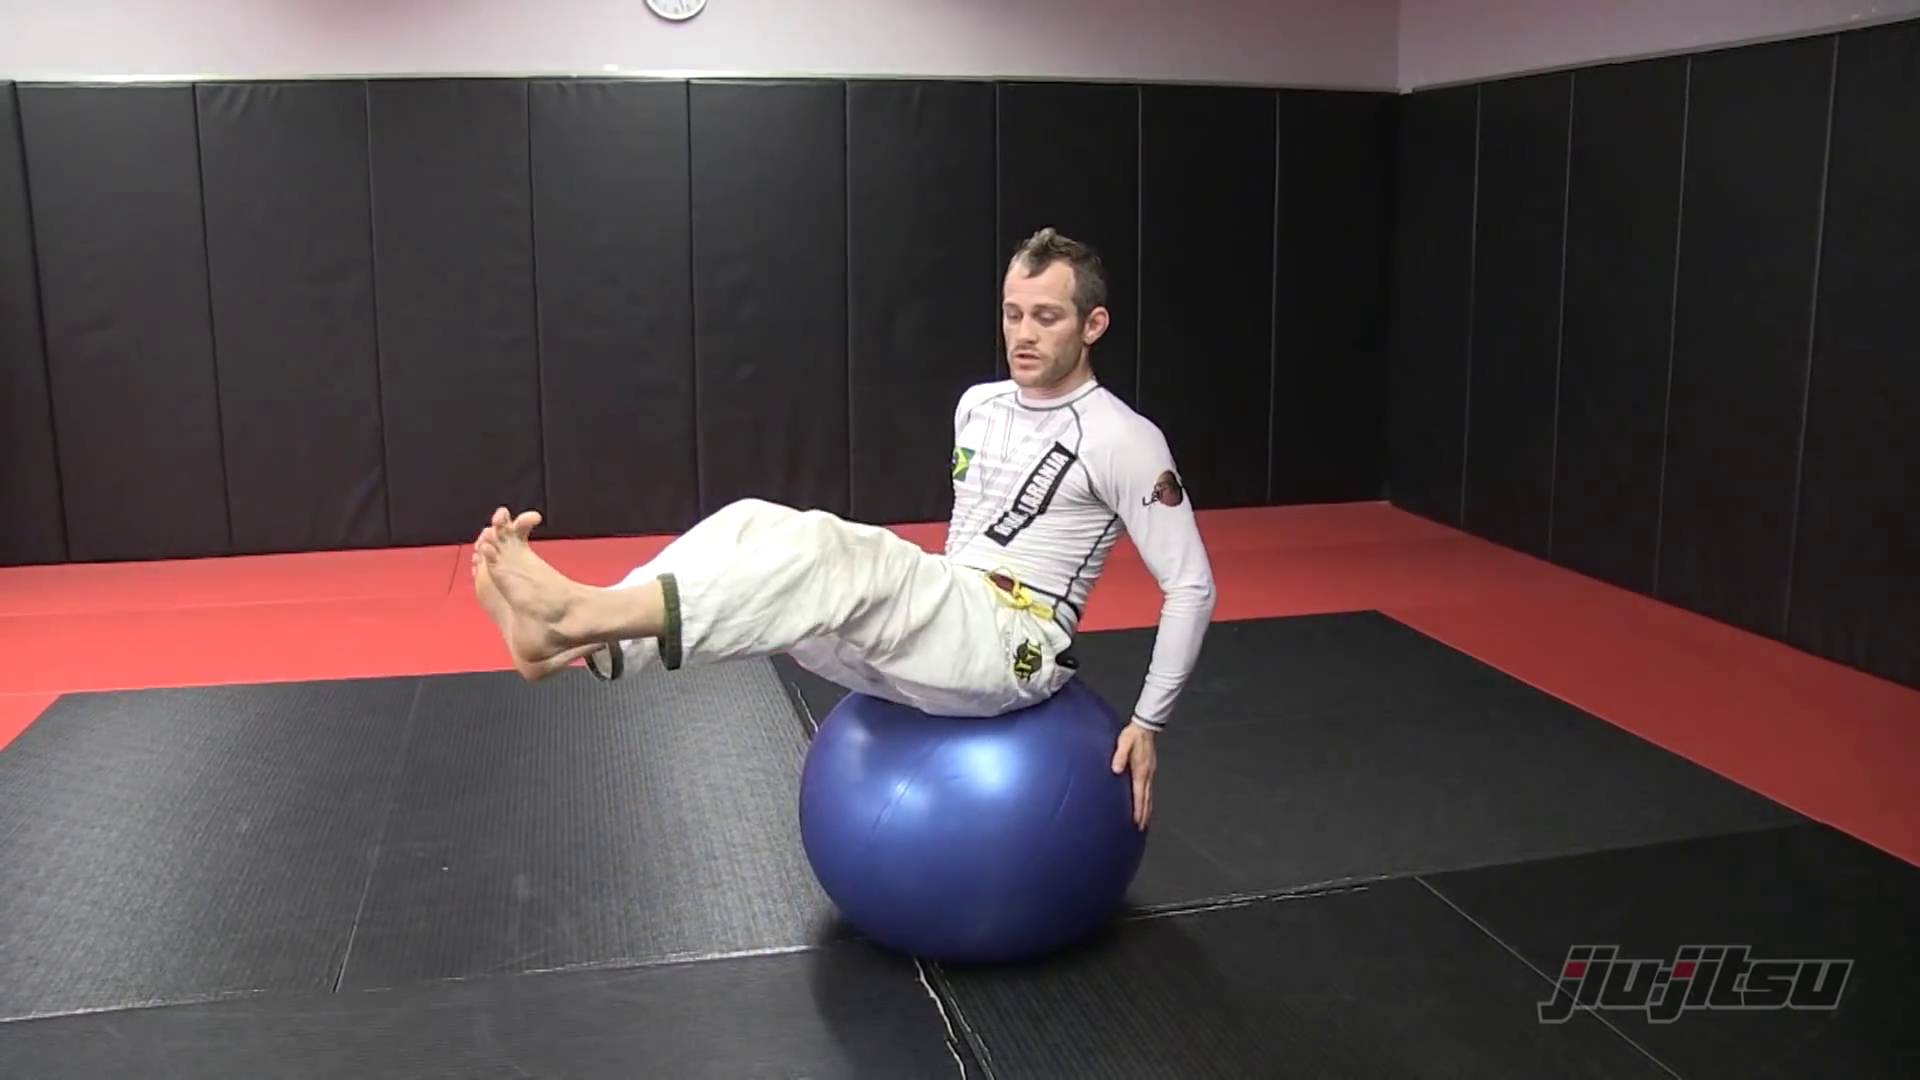yogaball: (785, 670, 1176, 973)
